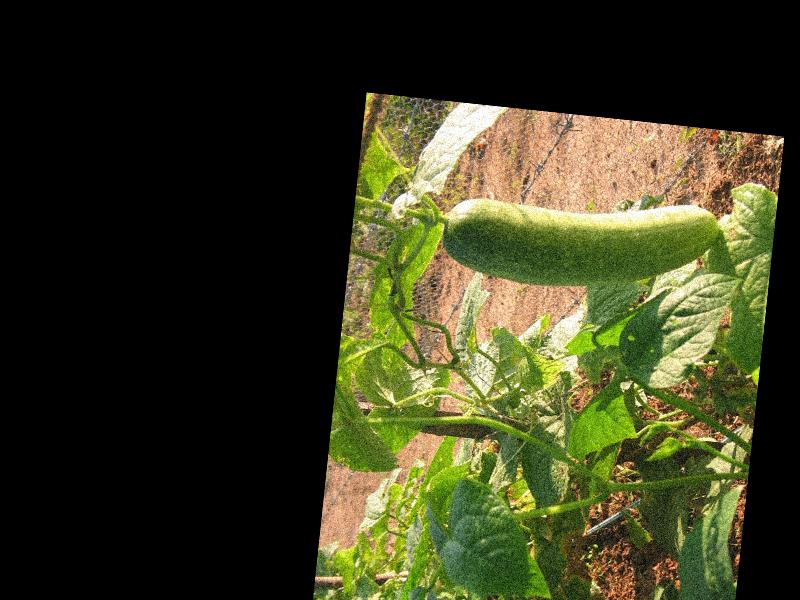Cucumber: (440, 180, 719, 302)
